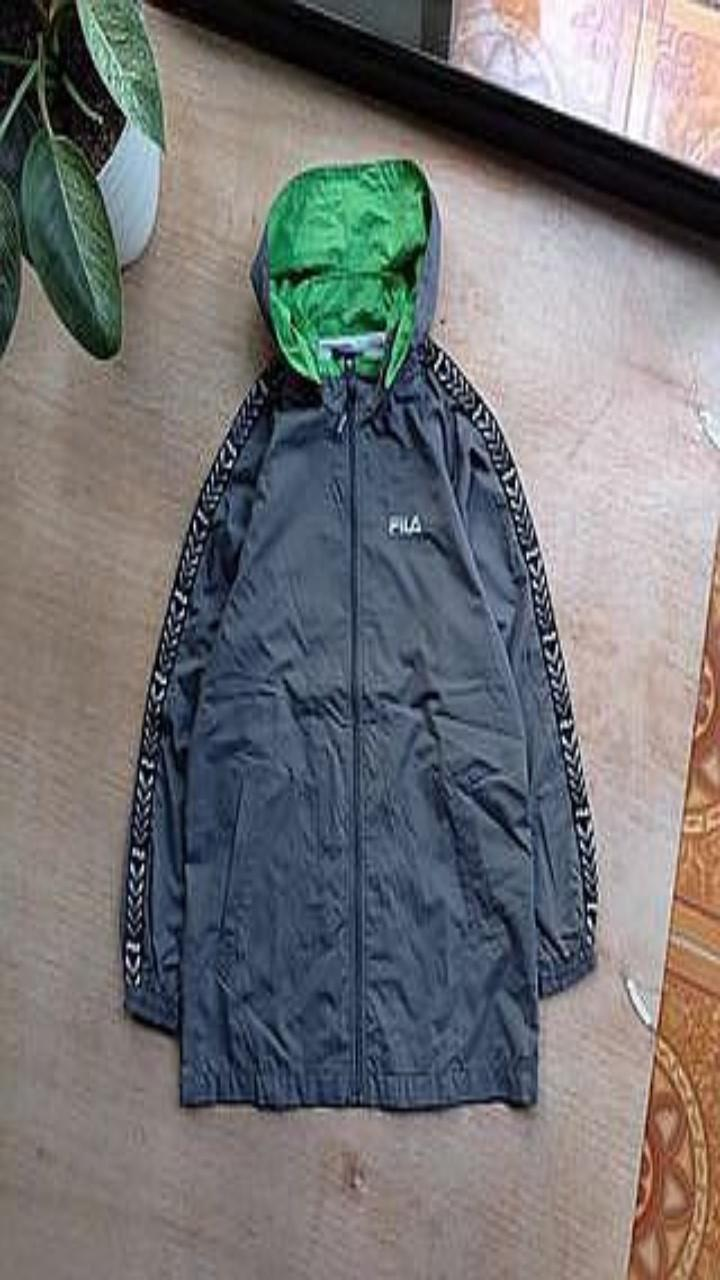Sports_Jacket: (120, 159, 596, 1107)
